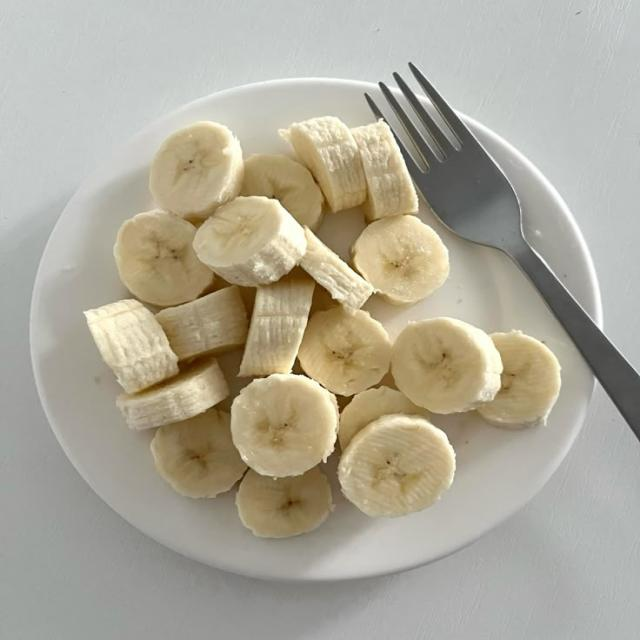banana slice: (339, 415, 455, 517), (232, 375, 338, 476), (391, 318, 502, 414), (194, 197, 306, 285), (114, 210, 214, 306), (150, 122, 244, 219), (85, 300, 178, 393), (352, 216, 449, 305), (151, 409, 246, 497), (280, 116, 366, 211), (299, 307, 391, 395), (479, 331, 560, 428), (117, 359, 229, 429), (239, 278, 314, 376), (236, 467, 333, 537), (156, 286, 247, 360), (352, 121, 418, 220), (240, 154, 323, 229), (300, 228, 373, 313), (339, 386, 428, 451)
